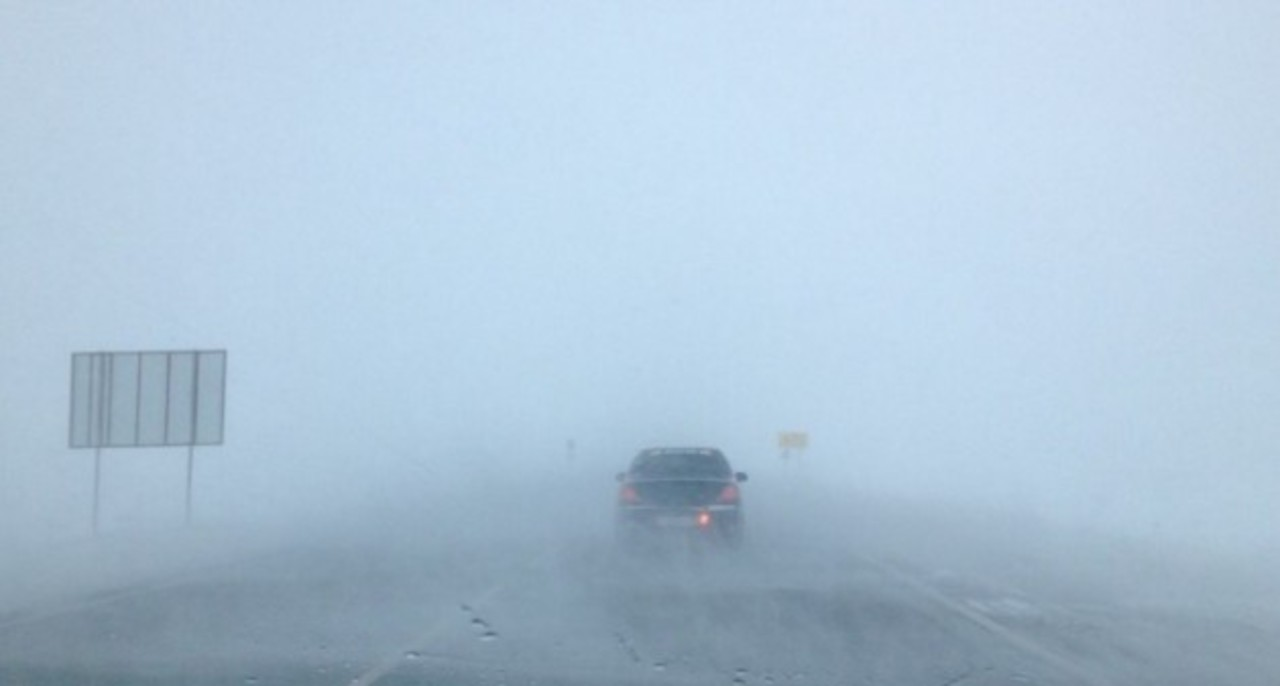car: (612, 444, 748, 548)
